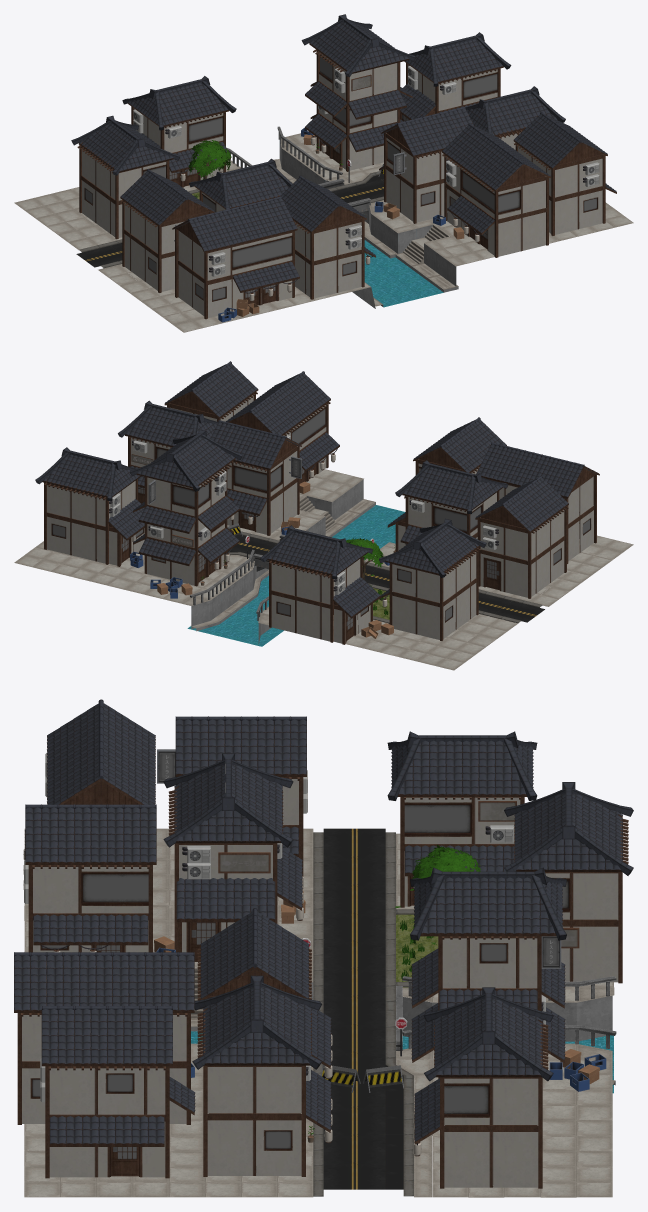
3 renders of one model, top to bottom at view 1: azimuth 30°, elevation 25°; view 2: azimuth 150°, elevation 25°; view 3: azimuth 270°, elevation 25°, orthographic. The views are drawn at different scales.
Parts seen in each view (by area): view 1: Cable_high_Atlas02_0, Piso_Normal_low268_blinn26_0, polySurface277_Folliage_0, polySurface277_Atlas_03_0; view 2: Cable_high_Atlas02_0, Piso_Normal_low268_blinn26_0, polySurface277_Atlas_03_0, polySurface277_Folliage_0; view 3: Cable_high_Atlas02_0, Piso_Normal_low268_blinn26_0, polySurface277_Atlas_03_0, polySurface277_Folliage_0.
Part boxes in pixels (x1,y1,x2,y2): Cable_high_Atlas02_0: [71, 14, 616, 322]; Piso_Normal_low268_blinn26_0: [14, 126, 633, 332]; polySurface277_Folliage_0: [188, 140, 342, 197]; polySurface277_Atlas_03_0: [192, 74, 383, 199]; Cable_high_Atlas02_0: [35, 361, 599, 644]; Piso_Normal_low268_blinn26_0: [14, 469, 633, 670]; polySurface277_Atlas_03_0: [131, 454, 395, 624]; polySurface277_Folliage_0: [200, 538, 395, 618]; Cable_high_Atlas02_0: [14, 699, 633, 1188]; Piso_Normal_low268_blinn26_0: [24, 828, 616, 1197]; polySurface277_Atlas_03_0: [218, 801, 579, 1142]; polySurface277_Folliage_0: [308, 844, 480, 1136].
Size of the model in its own units: 39.89 by 12.87 by 28.34.
Materials: 4 (4 with a texture image).
